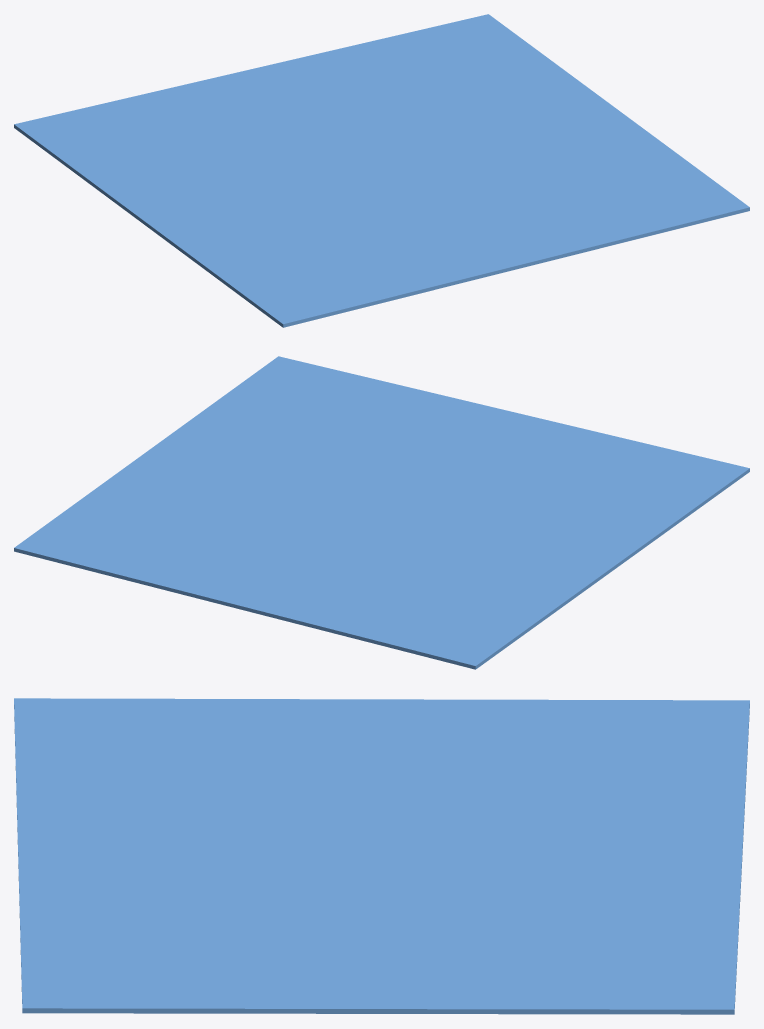
3 renders of one model, top to bottom at view 1: azimuth 30°, elevation 25°; view 2: azimuth 150°, elevation 25°; view 3: azimuth 270°, elevation 25°, orthographic. The views are drawn at different scales.
Bounding box in the file's own units: 418 × 3.05 × 417.
